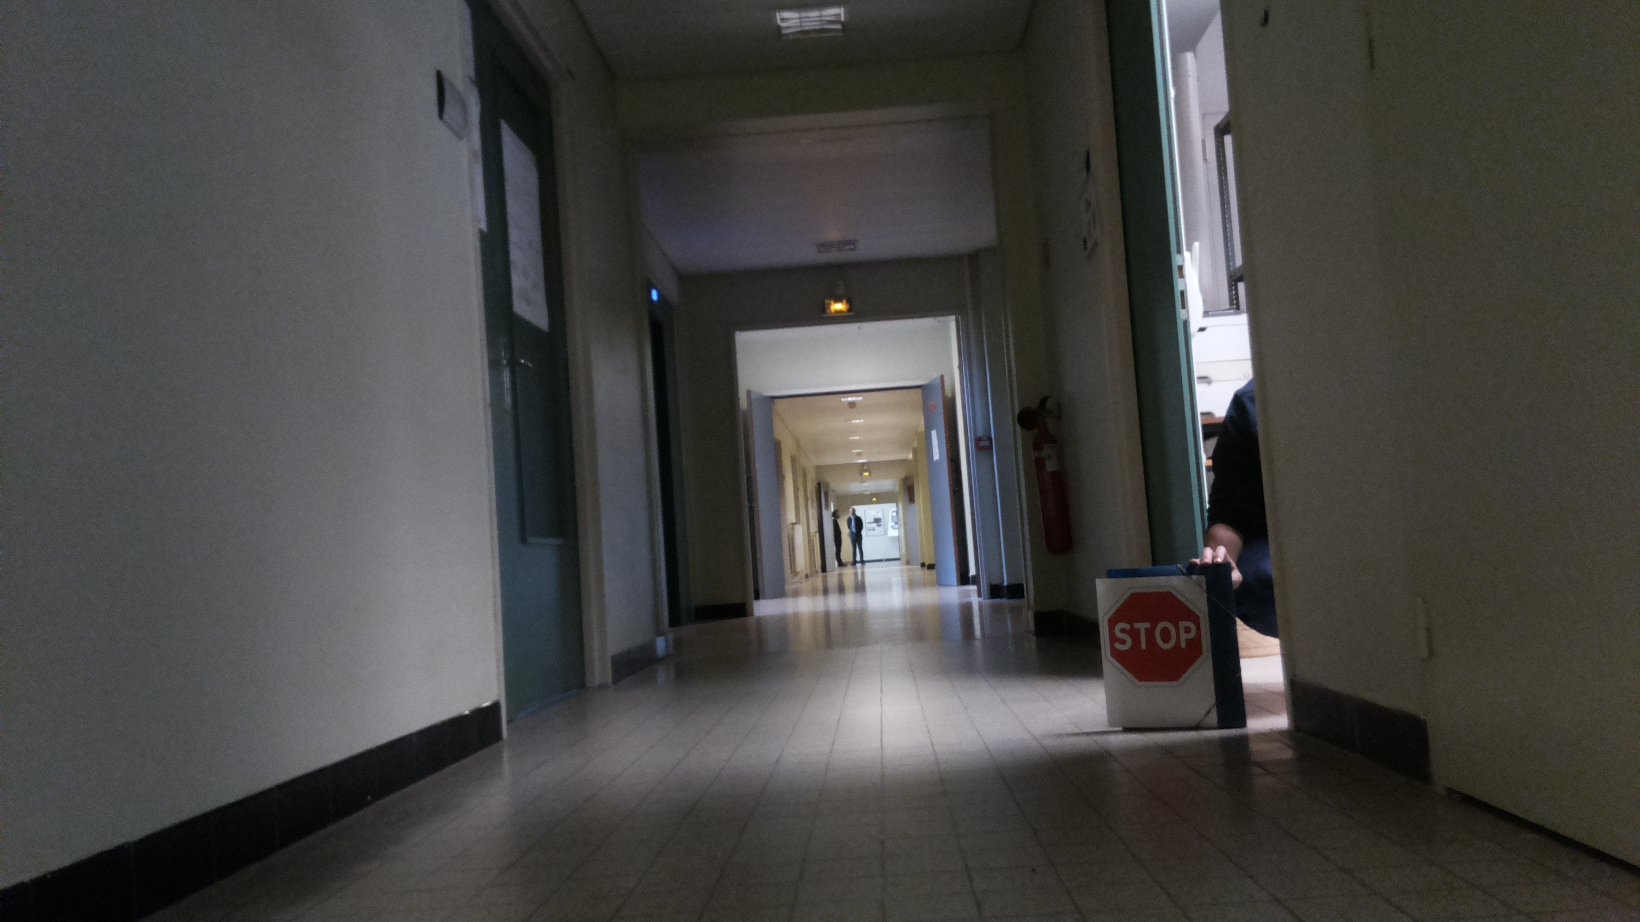stop: (1103, 587, 1207, 687)
